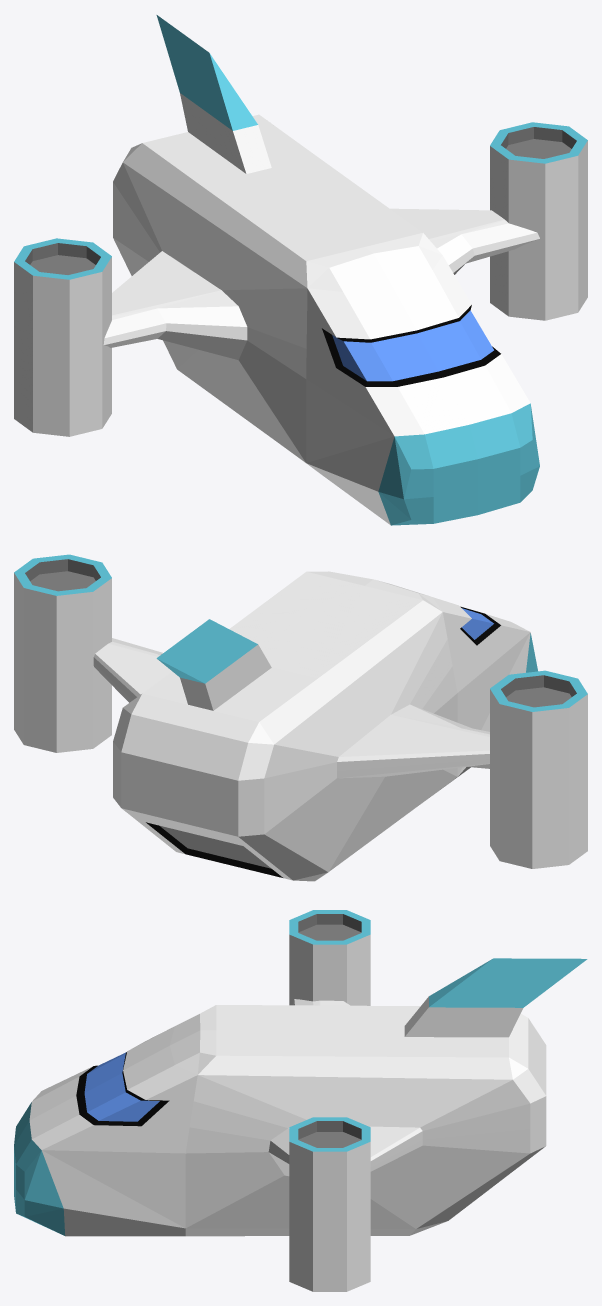
Rendered from SpaceShip.fbx.
The picture shows the model from 3 angles, top to bottom: view 1: azimuth 30°, elevation 25°; view 2: azimuth 150°, elevation 25°; view 3: azimuth 270°, elevation 25°; orthographic projection. The views are drawn at different scales.
Parts seen in each view (by area): view 1: Cube, Cylinder, Cylinder.001, Cube.001; view 2: Cube, Cylinder, Cylinder.001, Cube.001; view 3: Cube, Cylinder.001, Cylinder, Cube.001.
Part boxes in pixels (bbox=[...]): Cube: bbox=[103, 15, 539, 525]; Cylinder: bbox=[14, 238, 111, 436]; Cylinder.001: bbox=[490, 122, 587, 320]; Cube.001: bbox=[332, 310, 493, 381]; Cube: bbox=[93, 571, 537, 881]; Cylinder: bbox=[490, 670, 587, 868]; Cylinder.001: bbox=[14, 554, 111, 752]; Cube.001: bbox=[462, 608, 493, 639]; Cube: bbox=[14, 958, 587, 1236]; Cylinder.001: bbox=[289, 1117, 370, 1291]; Cylinder: bbox=[289, 910, 370, 1005]; Cube.001: bbox=[84, 1052, 159, 1121].
Bounding box in the file's own units: 511 × 249 × 513.
